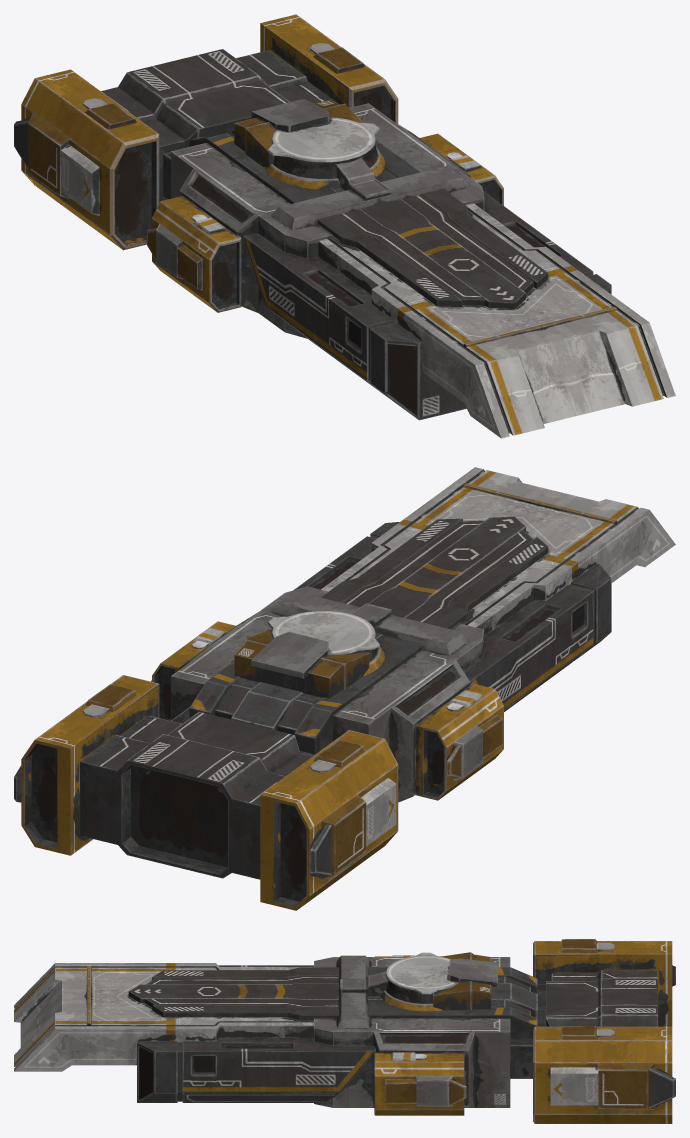
Rendered from qs_imperial.glb.
3 views of the same model, one above another, from view 1: azimuth 30°, elevation 25°; view 2: azimuth 150°, elevation 25°; view 3: azimuth 270°, elevation 25° (orthographic). The views are drawn at different scales.
Parts seen in each view (by area): view 1: Imperial; view 2: Imperial; view 3: Imperial.
Boxes of the visible parts, x1,y1,x2,y2 form: Imperial: (14,14,675,438); Imperial: (14,467,675,910); Imperial: (14,939,675,1123).
Size of the model in its own units: 7.73 by 3.31 by 18.55.
Materials: 1 (1 with a texture image).
